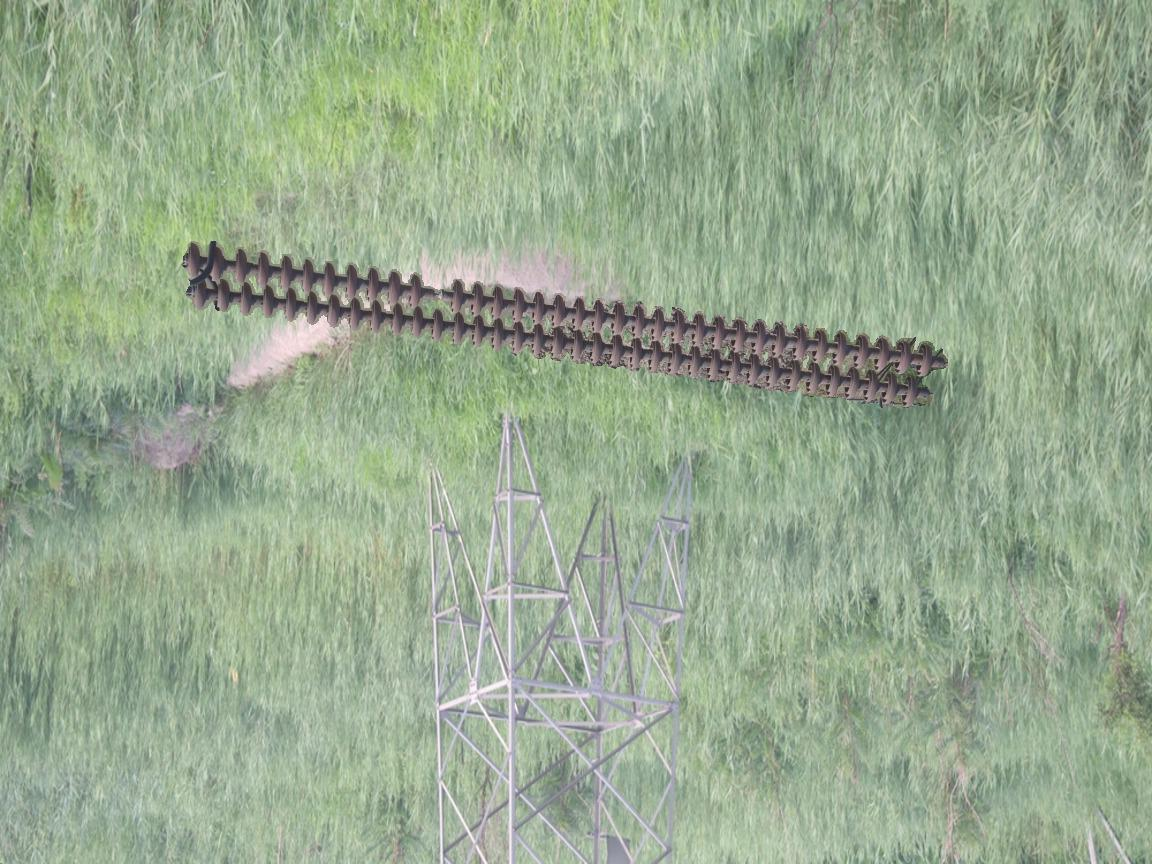insulator: (181, 236, 950, 414)
insulator_stringdrop: (406, 271, 467, 314)
